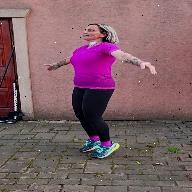jumping_jacks: (36, 10, 167, 162)
